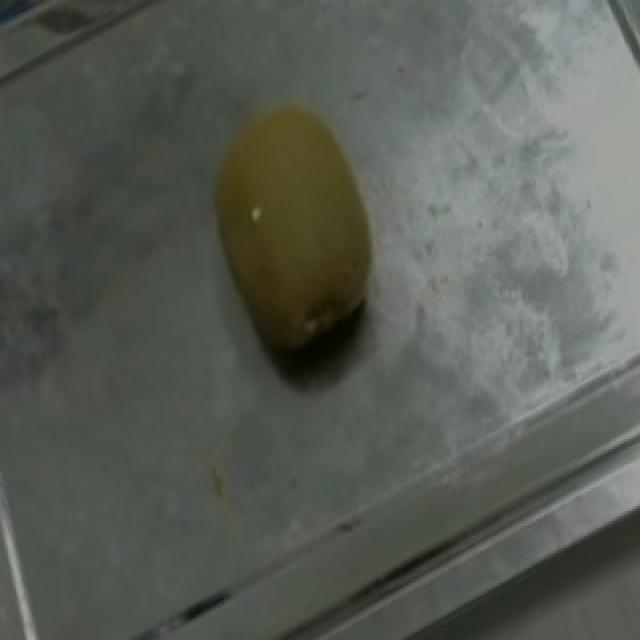Fruit: (162, 72, 416, 382)
